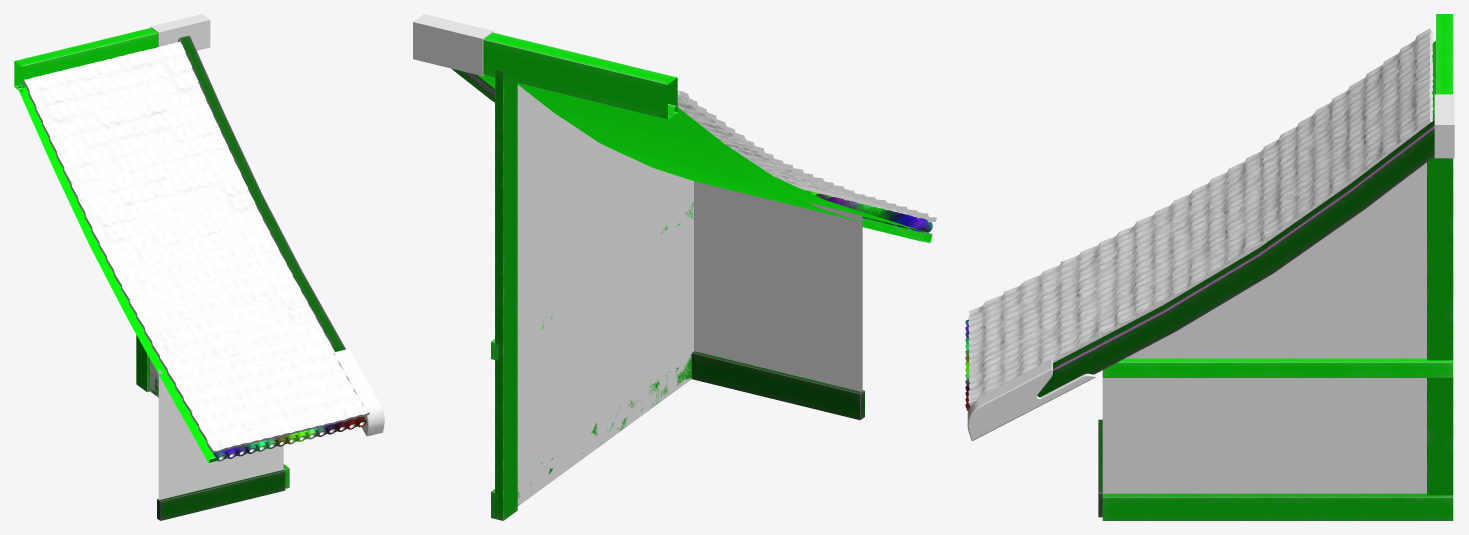
Rendered from roof_200_01_right.fbx.
3 renders of one model, left to right at view 1: azimuth 30°, elevation 25°; view 2: azimuth 150°, elevation 25°; view 3: azimuth 270°, elevation 25°, orthographic. The views are drawn at different scales.
Parts seen in each view (by area): view 1: roof_200_01_right; view 2: roof_200_01_right; view 3: roof_200_01_right.
Boxes of the visible parts, box(x1,y1,x2,y2) form: roof_200_01_right: box(14, 14, 384, 520); roof_200_01_right: box(413, 14, 936, 520); roof_200_01_right: box(965, 14, 1454, 520).
Bounding box in the file's own units: 3.01 × 5.41 × 5.58.
